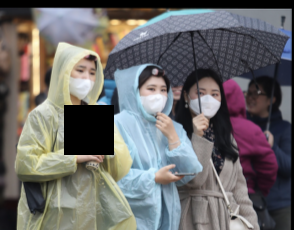with_mask: (67, 61, 98, 101), (187, 84, 221, 119), (138, 80, 169, 115)
without_mask: (242, 85, 267, 114)
